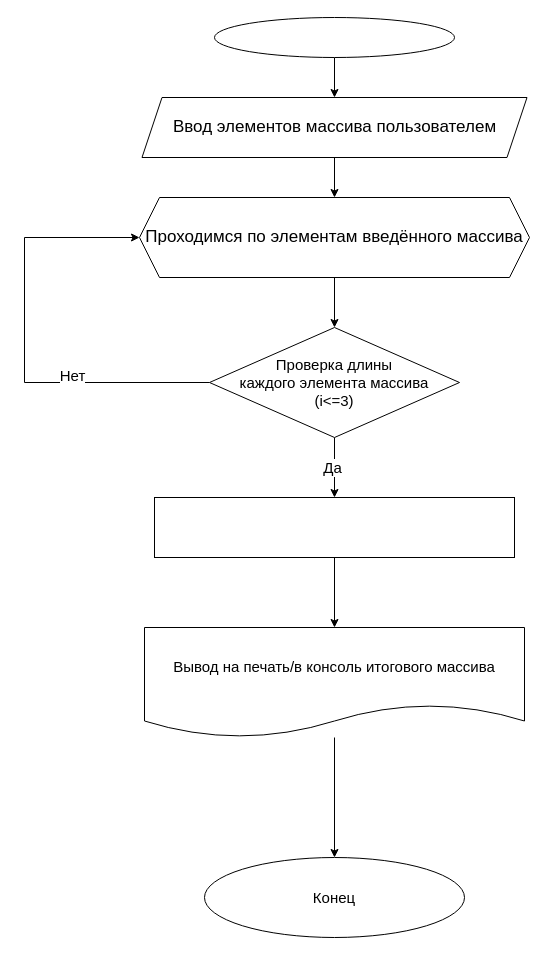
Some shapes in this 547 by 955 pixel diagram are drawn without their labels. Here are the shapes that lost their labels. From the top down, the box of each, then its label:
(214, 16, 454, 58): Начало
(154, 496, 514, 558): Проверяемый элемент массива помещается в новый массив
